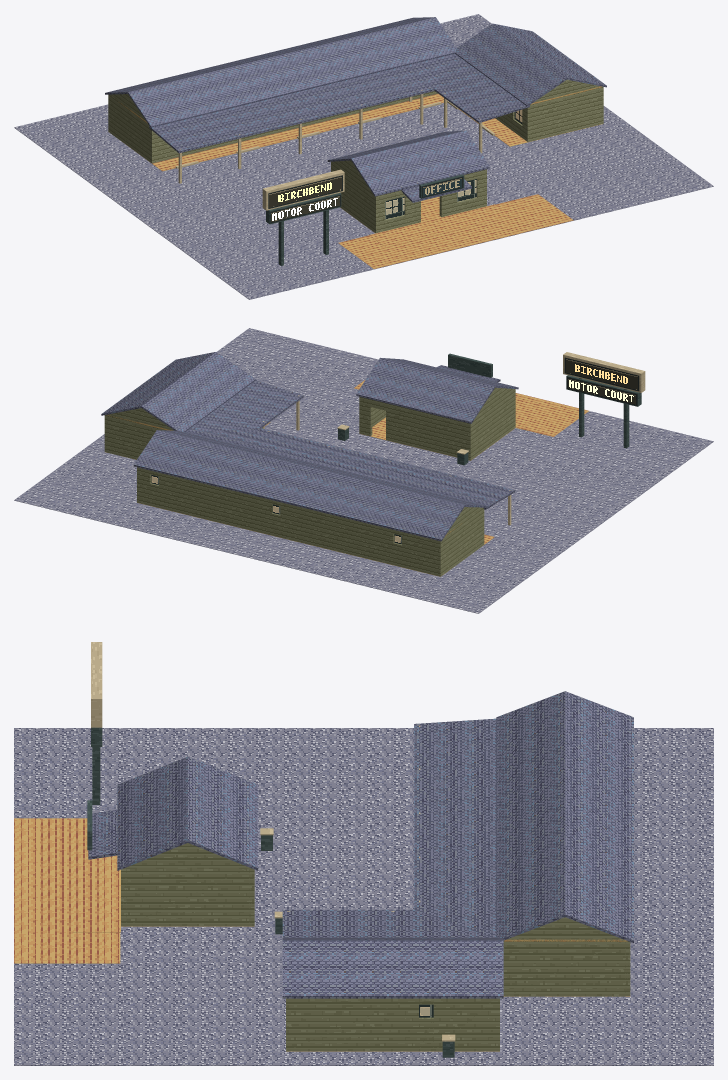
Rendered from birchbend-1935-far.glb.
The picture shows the model from 3 angles, top to bottom: view 1: azimuth 30°, elevation 25°; view 2: azimuth 150°, elevation 25°; view 3: azimuth 270°, elevation 25°; orthographic projection. The views are drawn at different scales.
Visible parts, largest first — view 1: lot, shell, roadside_sign, sign_name_street, interior; view 2: shell, lot, roadside_sign, sign_name_exit, interior; view 3: lot, shell, roadside_sign.
Boxes of the visible parts, left/top/right/bottom form: lot: left=14, top=14, right=713, bottom=299; shell: left=105, top=17, right=606, bottom=233; roadside_sign: left=262, top=169, right=344, bottom=265; sign_name_street: left=268, top=175, right=342, bottom=208; interior: left=109, top=123, right=603, bottom=232; shell: left=101, top=352, right=518, bottom=576; lot: left=14, top=328, right=713, bottom=613; roadside_sign: left=563, top=352, right=645, bottom=448; sign_name_exit: left=564, top=357, right=639, bottom=391; interior: left=105, top=417, right=514, bottom=576; lot: left=14, top=728, right=713, bottom=1065; shell: left=87, top=691, right=633, bottom=1051; roadside_sign: left=91, top=642, right=102, bottom=804.
Size of the model in its own units: 35.8 by 5.83 by 31.4.
8 materials, 8 textured.
